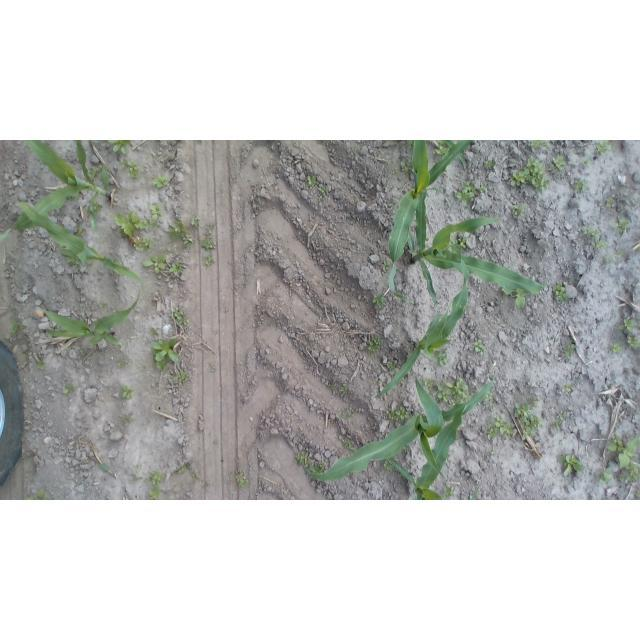Maize: (302, 366, 495, 483), (405, 182, 548, 302), (375, 246, 469, 399), (386, 141, 473, 300), (12, 198, 146, 293), (386, 396, 498, 500), (1, 140, 110, 242), (42, 294, 139, 348)
Weeds: (509, 155, 550, 191), (514, 402, 543, 441), (430, 378, 470, 406), (152, 338, 179, 371), (485, 414, 515, 440), (113, 211, 139, 238), (618, 437, 638, 467), (454, 180, 478, 205), (558, 455, 585, 477), (501, 287, 527, 308), (142, 254, 166, 275), (386, 406, 411, 423), (167, 219, 187, 240), (122, 159, 141, 181), (445, 238, 469, 254), (24, 488, 54, 500), (108, 140, 132, 154), (87, 163, 104, 181), (134, 238, 155, 252), (626, 460, 640, 481), (368, 337, 384, 355), (606, 435, 624, 451), (552, 283, 568, 301), (172, 308, 188, 325), (614, 215, 629, 233), (295, 452, 311, 468), (86, 200, 103, 215), (435, 141, 450, 158), (201, 232, 215, 250), (150, 203, 163, 222), (550, 156, 565, 172), (151, 470, 166, 486), (234, 473, 250, 488), (432, 350, 447, 366), (341, 406, 356, 421), (597, 141, 612, 156), (619, 319, 635, 333), (152, 176, 169, 189), (530, 141, 550, 152), (372, 294, 386, 309), (174, 370, 187, 386), (600, 467, 613, 483), (510, 205, 526, 218), (584, 227, 601, 239), (571, 180, 588, 192), (10, 319, 22, 336), (565, 340, 576, 358), (169, 261, 183, 275), (121, 385, 134, 400), (473, 339, 485, 355), (590, 239, 607, 250), (381, 459, 395, 472), (627, 336, 640, 349), (311, 462, 325, 474), (66, 255, 82, 265), (140, 218, 153, 230), (190, 215, 203, 227), (149, 488, 161, 501), (442, 486, 454, 499), (424, 378, 437, 390), (400, 160, 413, 172), (179, 464, 194, 474), (344, 439, 356, 451), (116, 357, 130, 367), (62, 385, 74, 396), (611, 341, 622, 352), (74, 226, 86, 236), (121, 417, 135, 425), (183, 237, 193, 248), (132, 474, 143, 484), (203, 256, 213, 267), (307, 175, 316, 187), (603, 256, 614, 265), (563, 383, 574, 392), (485, 160, 496, 169), (339, 386, 349, 395), (551, 421, 561, 430), (582, 158, 592, 167), (531, 397, 539, 408), (387, 363, 396, 372), (326, 383, 336, 391), (606, 197, 614, 207), (319, 185, 328, 193), (556, 411, 564, 419), (38, 360, 45, 369), (150, 328, 157, 337), (389, 202, 396, 211), (407, 141, 414, 150), (478, 186, 487, 193), (383, 261, 389, 271), (136, 464, 143, 472), (193, 473, 200, 480), (403, 444, 409, 452), (487, 391, 493, 399), (487, 401, 496, 406), (619, 476, 625, 483), (373, 381, 381, 386), (81, 351, 87, 357), (471, 389, 477, 395), (100, 302, 107, 307), (212, 365, 217, 372), (636, 490, 640, 498), (424, 245, 430, 250), (339, 435, 344, 440), (155, 225, 160, 230), (355, 147, 360, 152), (319, 196, 323, 202), (440, 345, 446, 349), (392, 170, 398, 174), (145, 478, 150, 482), (425, 237, 429, 242), (141, 367, 145, 371), (197, 140, 201, 144), (637, 247, 640, 251), (356, 221, 359, 224)
